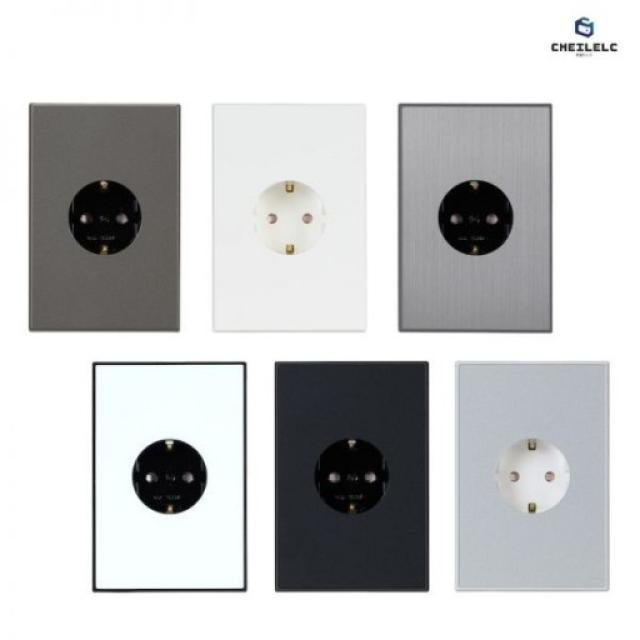typeb: (78, 349, 263, 606), (388, 92, 568, 341), (268, 357, 442, 607), (18, 89, 188, 341), (453, 350, 613, 611), (204, 89, 372, 334)
